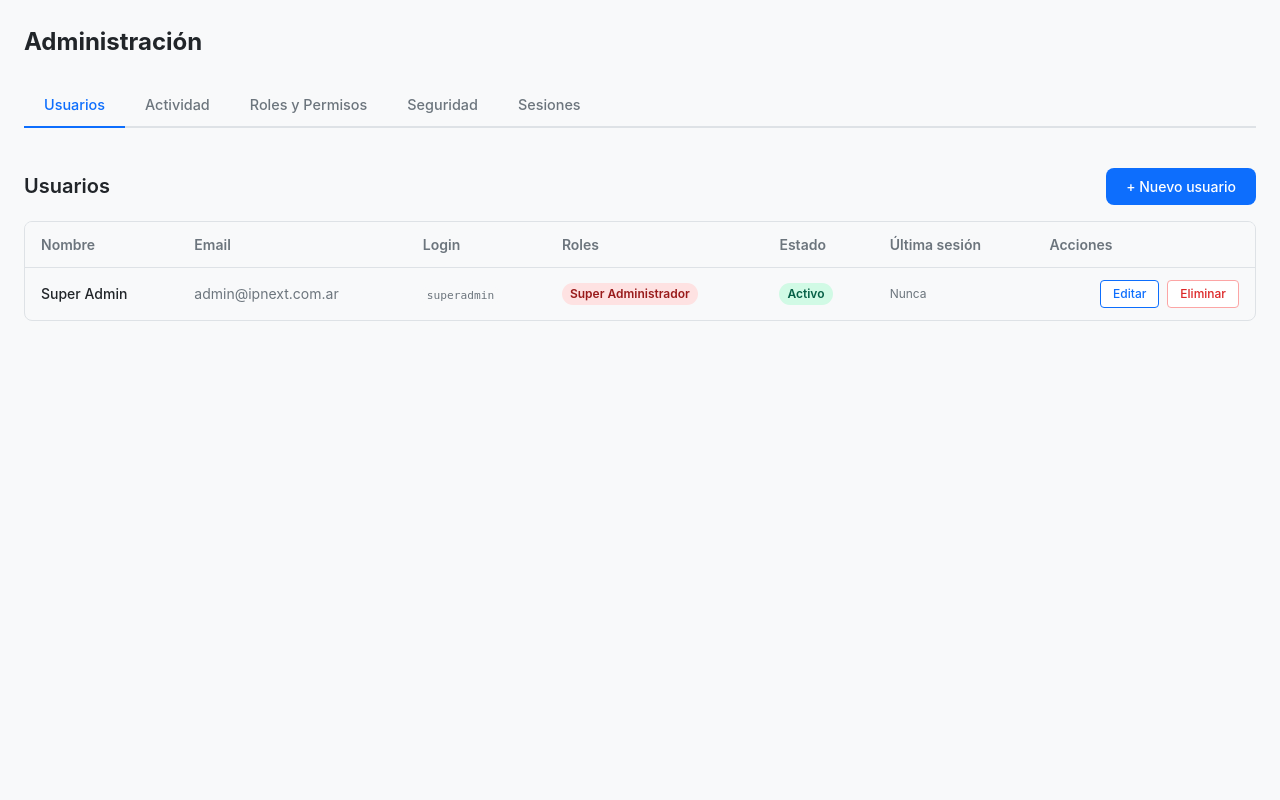
Test: AdminPage › admins tab "Editar" button opens RbacUserModal pre-filled with user data
Click the button "Editar".
click(1130, 294)  # box [1100,280,1159,308]
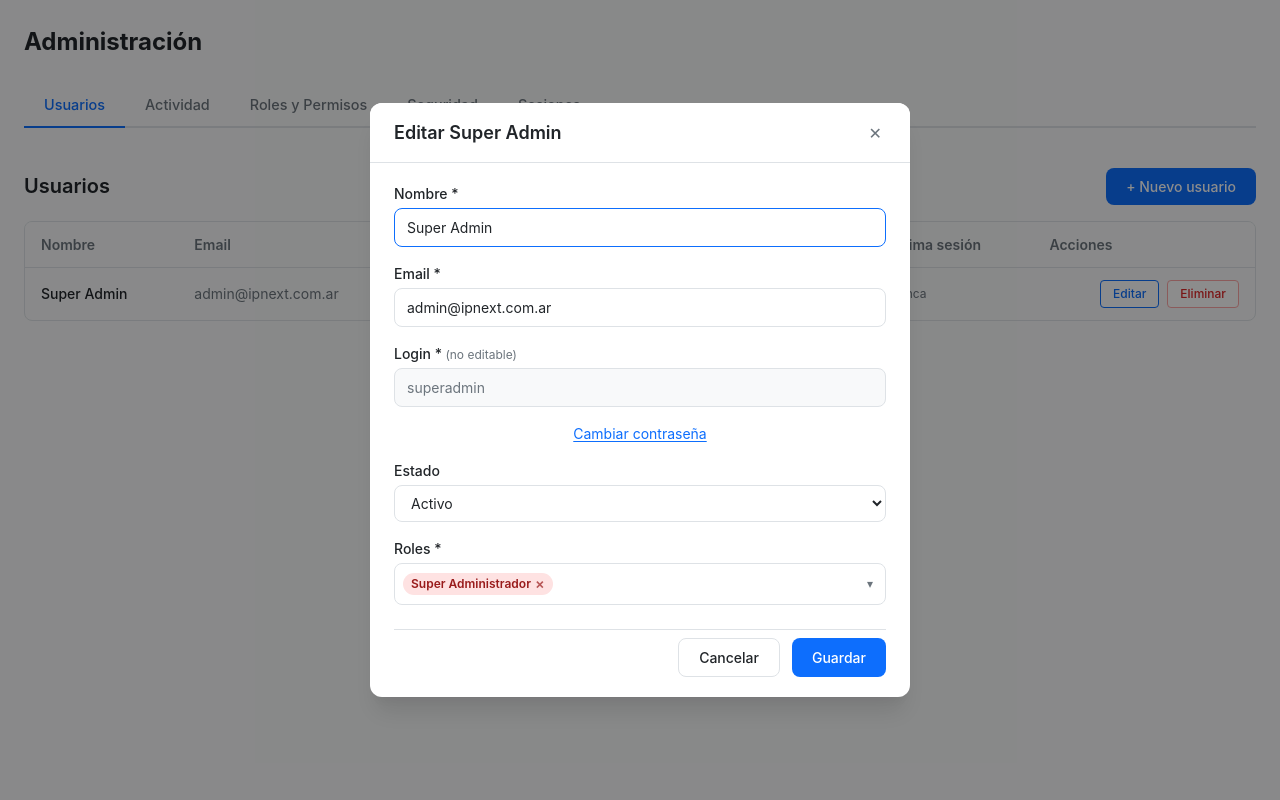
Result: the field labelled "Nombre *" holds "Super Admin" at [394,208,886,247]
